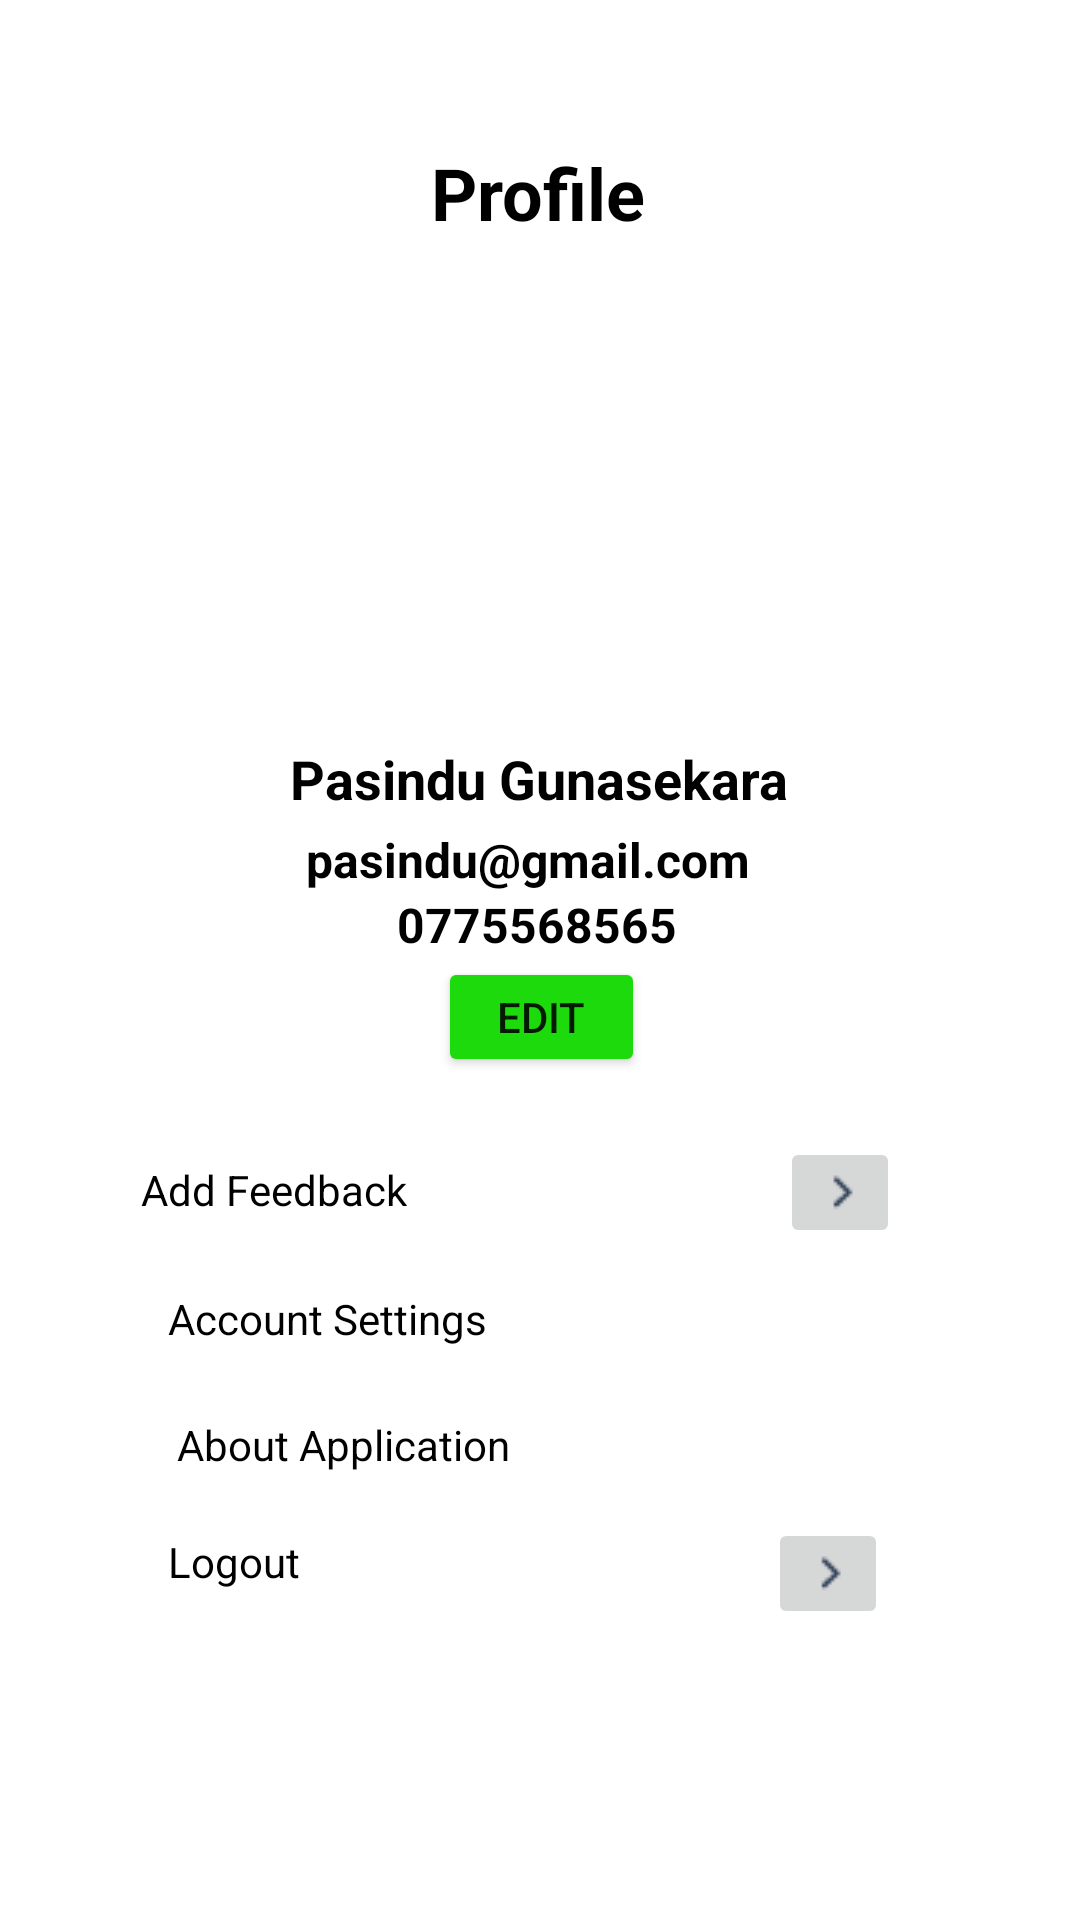

Point at icon controls on the screen. Image size 1080*1920, points as [x,y].
chevron right: [840,1192], [828,1573]
